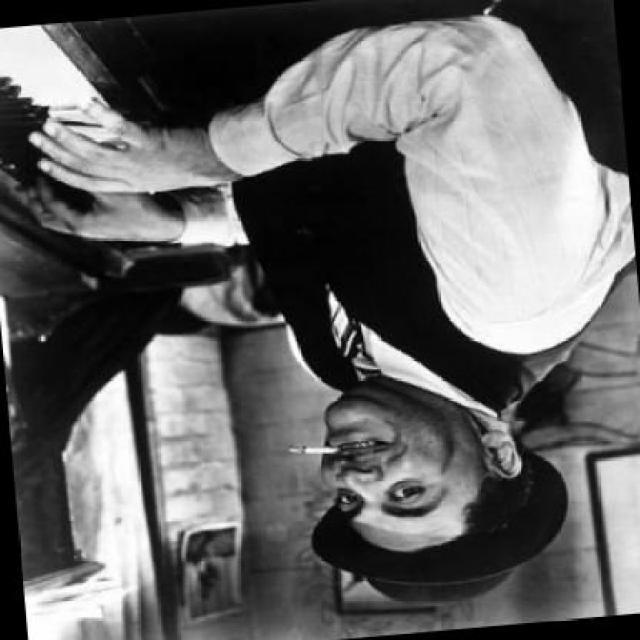cigarette: (283, 438, 346, 458)
